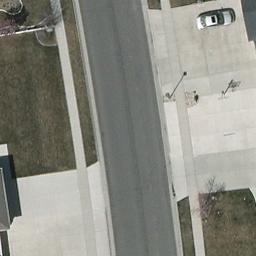car: (198, 8, 235, 30)
